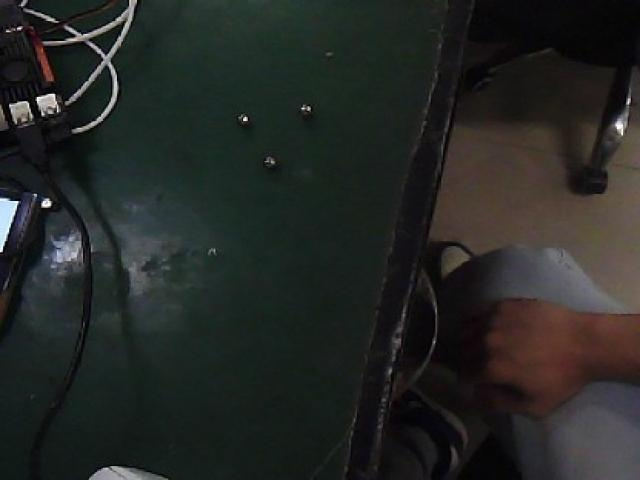steel-ball: (288, 91, 317, 126), (254, 143, 283, 177), (222, 102, 256, 128)
